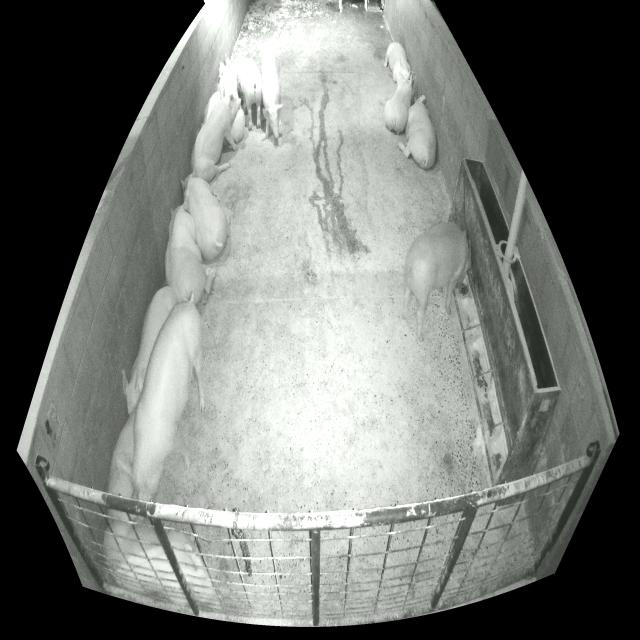pig: (133, 293, 206, 500), (104, 521, 216, 607), (406, 221, 468, 341), (122, 287, 178, 413), (190, 95, 241, 182), (165, 196, 206, 304), (181, 171, 231, 258), (397, 95, 436, 169), (108, 408, 136, 496), (262, 51, 283, 139), (385, 75, 415, 134), (238, 59, 262, 131), (384, 42, 414, 86), (218, 58, 238, 99), (202, 92, 220, 127)
